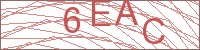6: (63, 6, 82, 34)
A: (114, 1, 139, 27)
C: (141, 17, 166, 44)
E: (90, 1, 114, 28)
